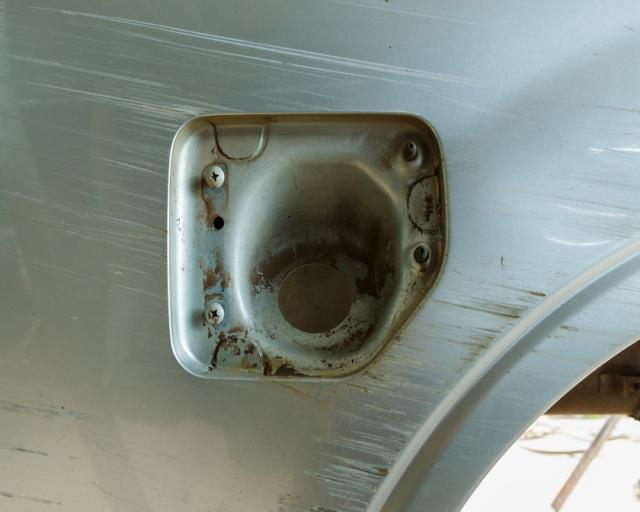scratch: (0, 388, 176, 512)
